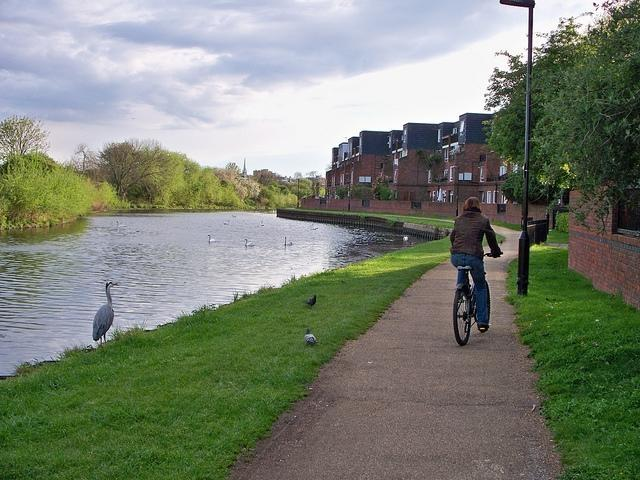bicycle: (455, 268, 473, 344)
